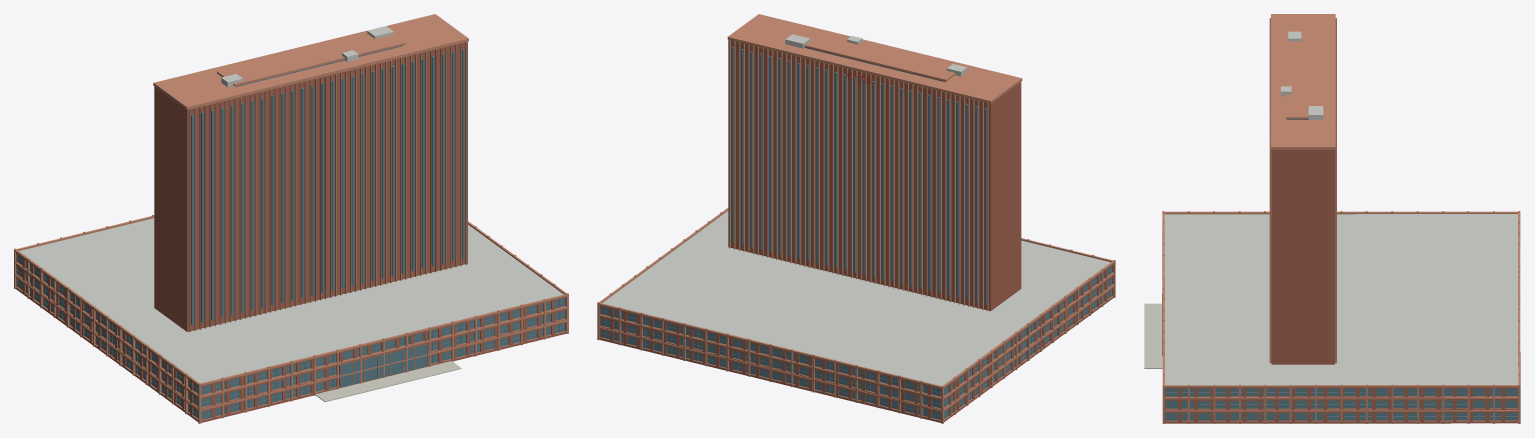
The model's file is library.glb.
3 views of the same model, side by side, from view 1: azimuth 30°, elevation 25°; view 2: azimuth 150°, elevation 25°; view 3: azimuth 270°, elevation 25° (orthographic). The views are drawn at different scales.
Visible parts, largest first — view 1: trim, wall, glass, roof, paving, metal; view 2: trim, wall, roof, glass, metal; view 3: roof, wall, trim, glass, paving, metal.
Part boxes in pixels (x1,y1,x2,y2): trim: (14, 14, 568, 423); wall: (16, 41, 566, 422); glass: (17, 45, 565, 419); roof: (19, 26, 563, 383); paving: (315, 361, 461, 402); metal: (17, 257, 564, 418); trim: (597, 14, 1115, 423); wall: (599, 40, 1113, 422); roof: (602, 34, 1110, 385); glass: (600, 46, 1112, 419); metal: (601, 268, 1112, 418); roof: (1164, 31, 1518, 385); wall: (1164, 149, 1518, 423); trim: (1162, 14, 1520, 423); glass: (1165, 119, 1517, 420); paving: (1144, 303, 1162, 368); metal: (1166, 389, 1517, 420).
Bounding box in the file's own units: 97.52 × 68.47 × 88.77.
